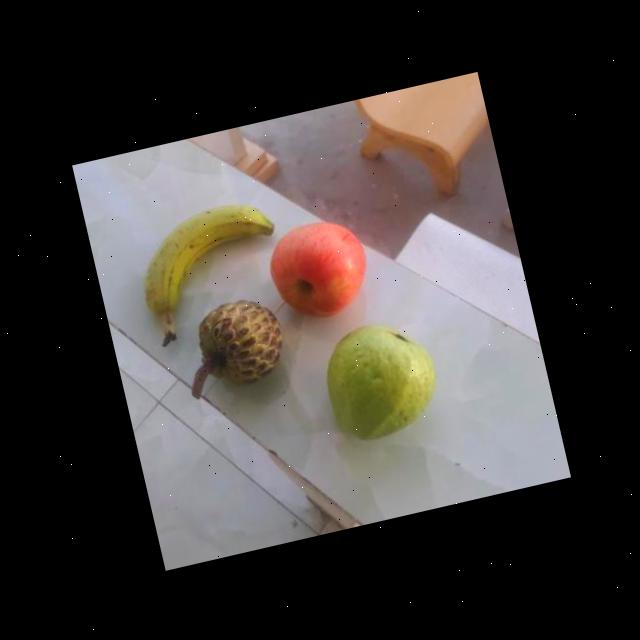Sakya fruit: (180, 288, 294, 396)
apple: (258, 211, 378, 325)
banana: (129, 194, 294, 334)
guava: (315, 312, 452, 448)
